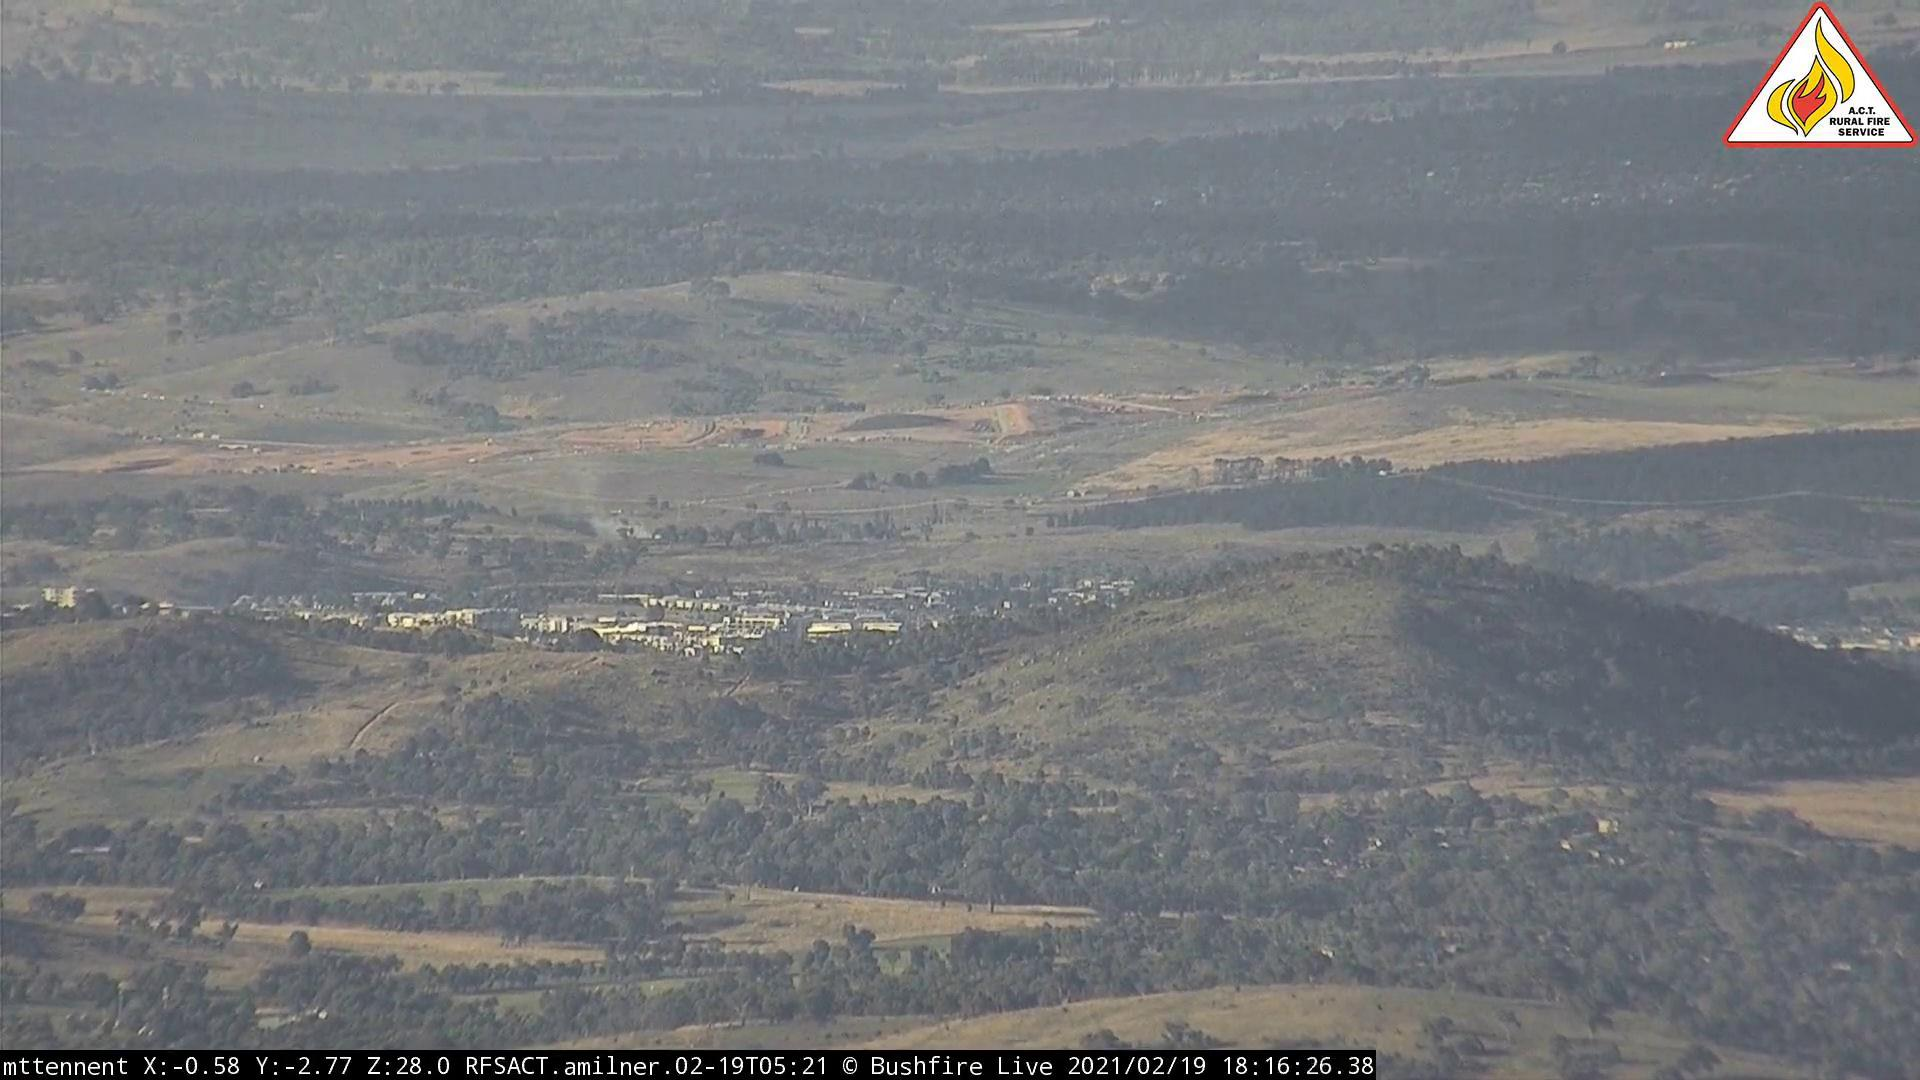Smoke: (601, 504, 667, 553)
